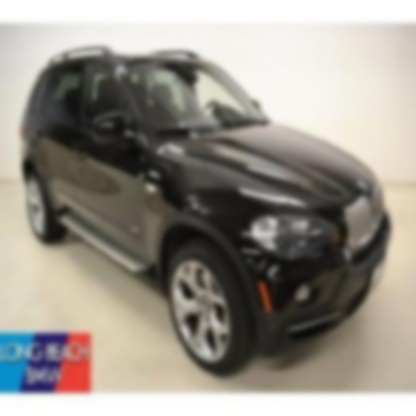Vehicle: (18, 49, 393, 380)
